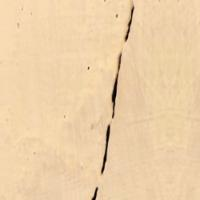crack: (77, 0, 143, 200)
